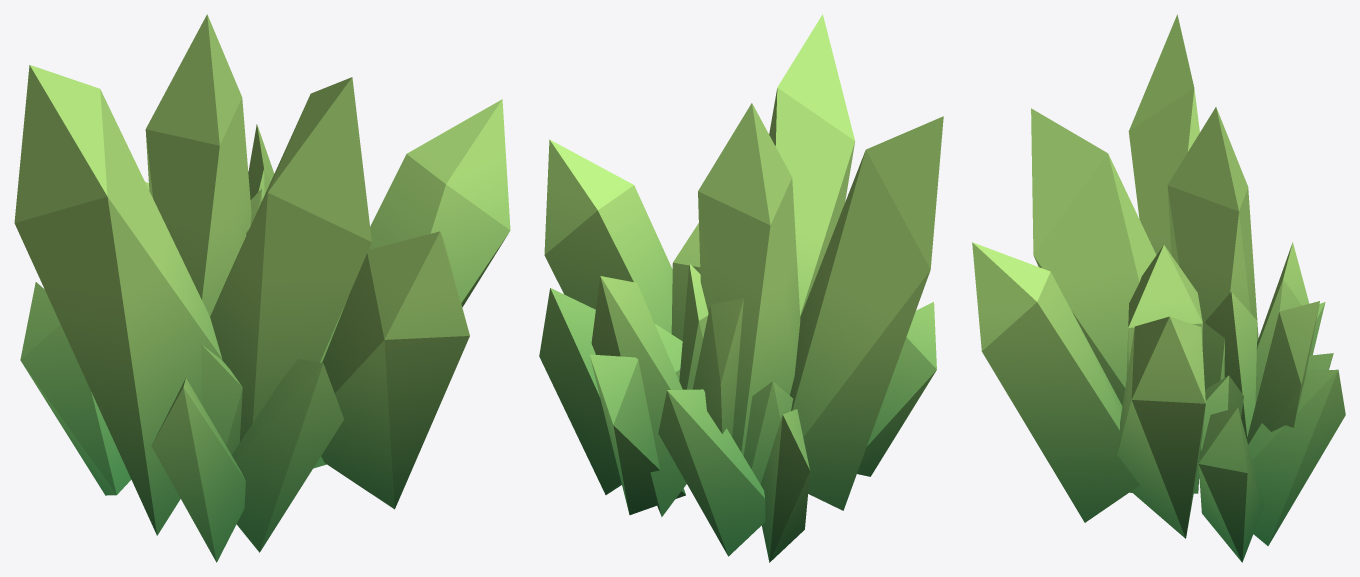
Rendered from crystal1.fbx.
3 views of the same model, side by side, from view 1: azimuth 30°, elevation 25°; view 2: azimuth 150°, elevation 25°; view 3: azimuth 270°, elevation 25° (orthographic). The views are drawn at different scales.
Parts seen in each view (by area): view 1: cristal_1; view 2: cristal_1; view 3: cristal_1.
Part boxes in pixels (x1,y1,x2,y2): cristal_1: (14,14,510,562); cristal_1: (539,14,943,562); cristal_1: (972,14,1345,562).
Bounding box in the file's own units: 0.6835 × 0.7145 × 0.5834.
Materials: 1 (1 with a texture image).
